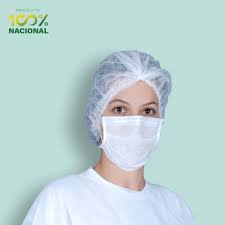with_mask_and_cap: (89, 52, 166, 171)
